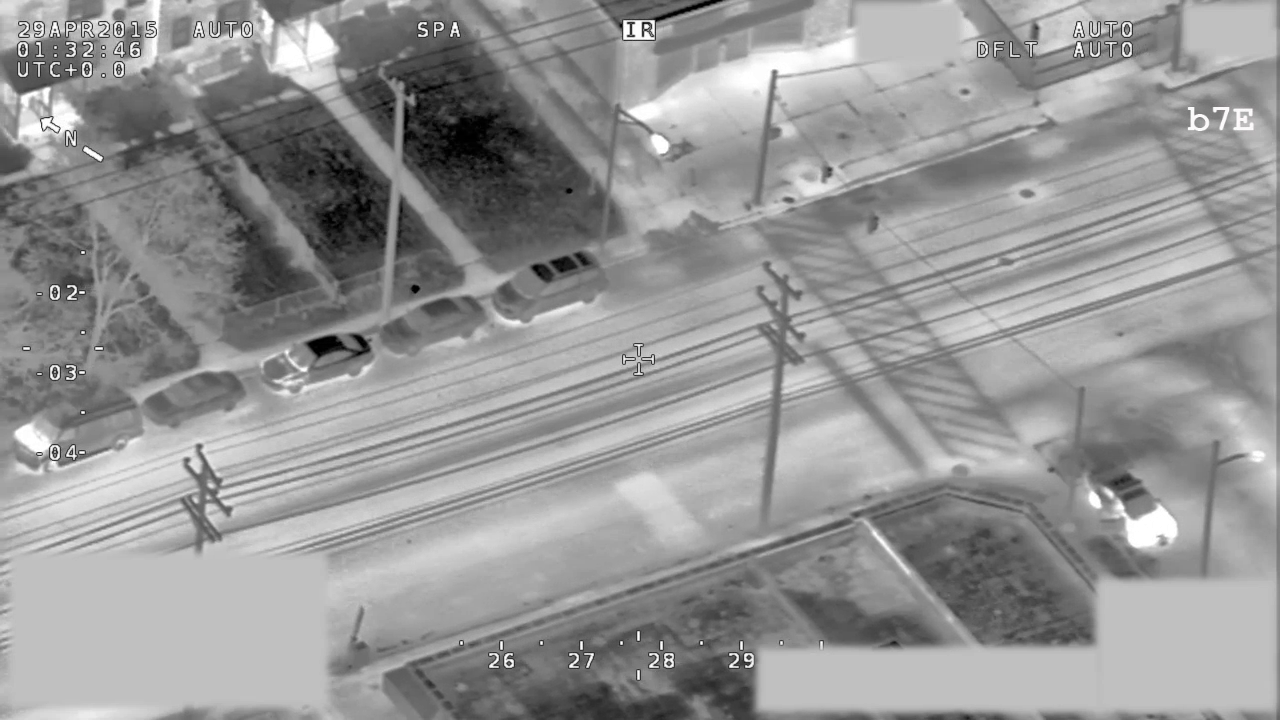vehicle: (12, 380, 144, 474), (1083, 456, 1181, 562), (490, 247, 610, 328), (254, 329, 377, 401), (373, 292, 490, 358), (138, 369, 246, 429)
